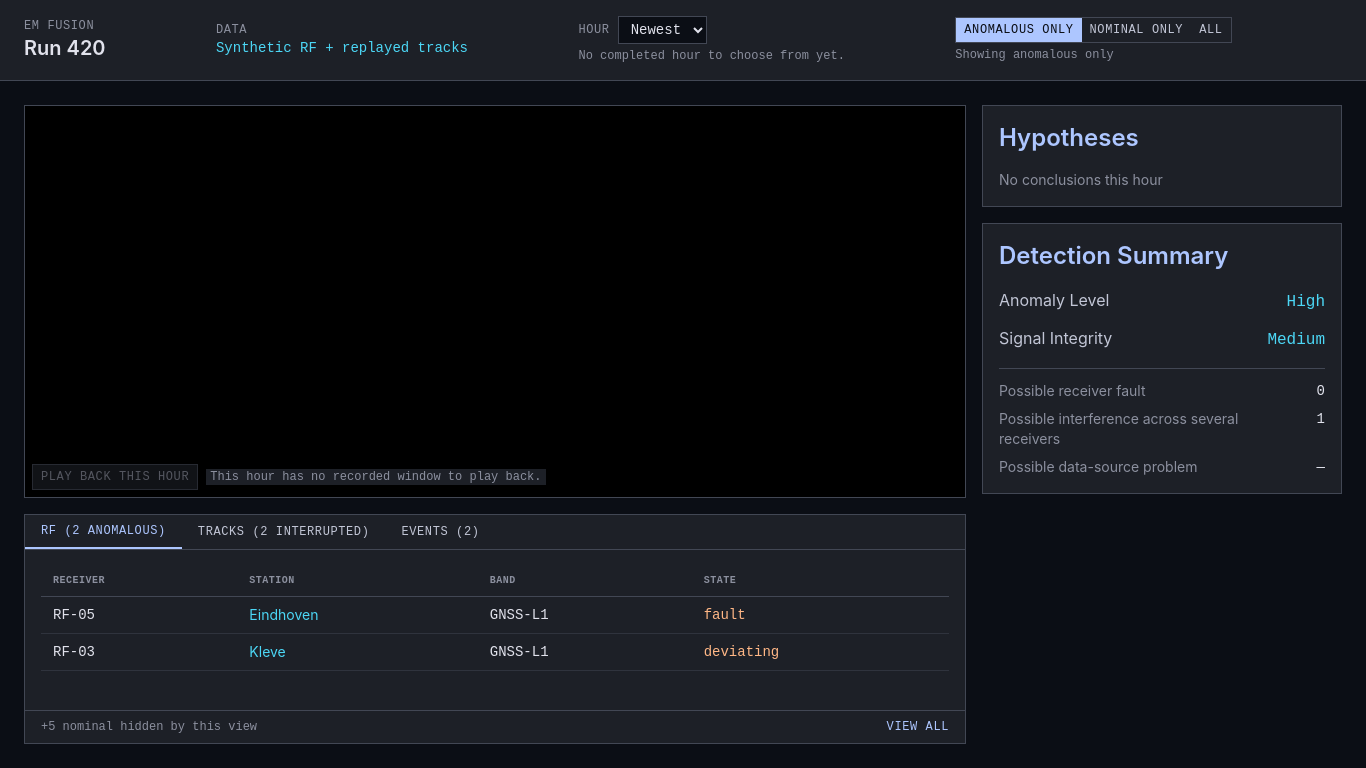
Scenario: what it opens › opens the aircraft from the Tracks tab and the conclusions from the Events tab
Click the tab "Tracks (2 interrupted)": (284, 532) [182,515,385,549]
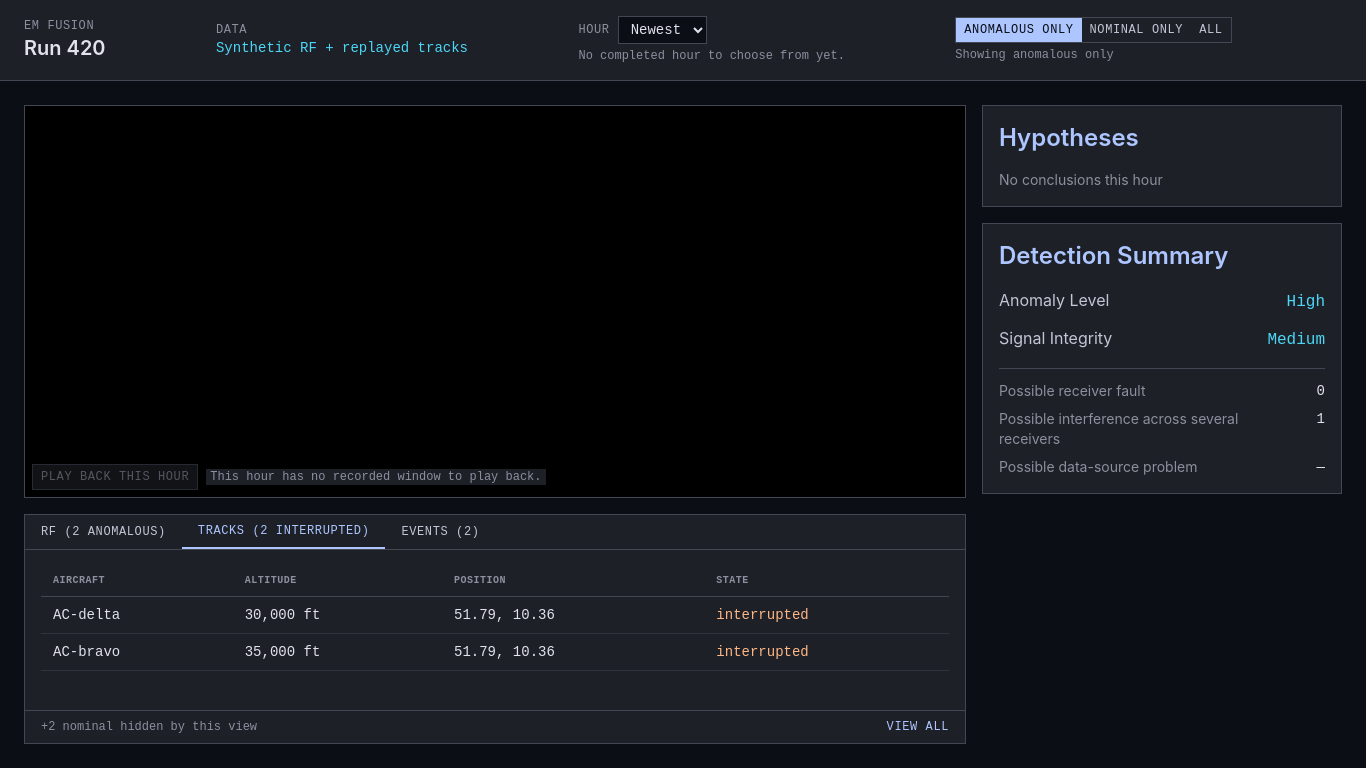
Click the button "View all": (918, 727) [887,719,949,735]
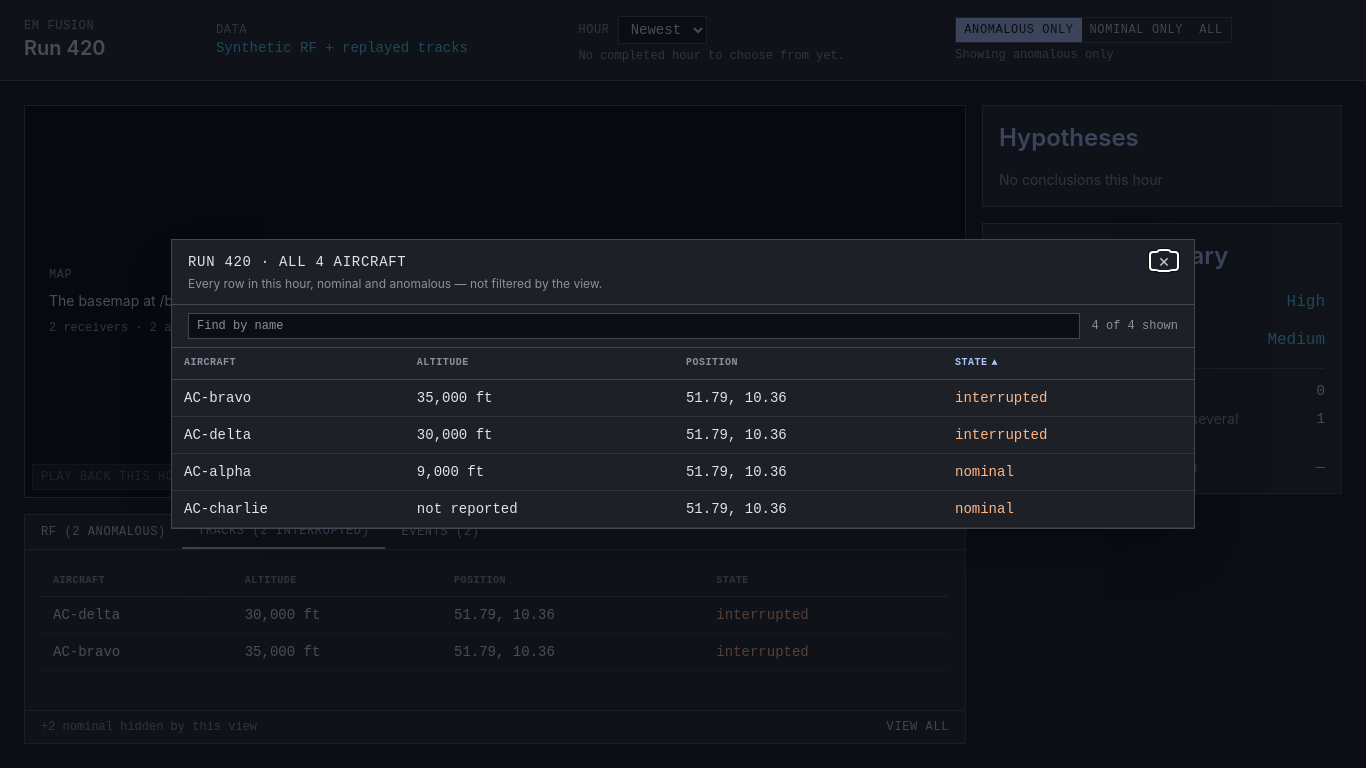
Expected: the table is shown, [172,348,1194,528]
Expected: the dialog "Run 420 · all 4 aircraft" is shown, [171,239,1195,529]
Click the button named "close": (1164, 261) [1150,252,1178,270]
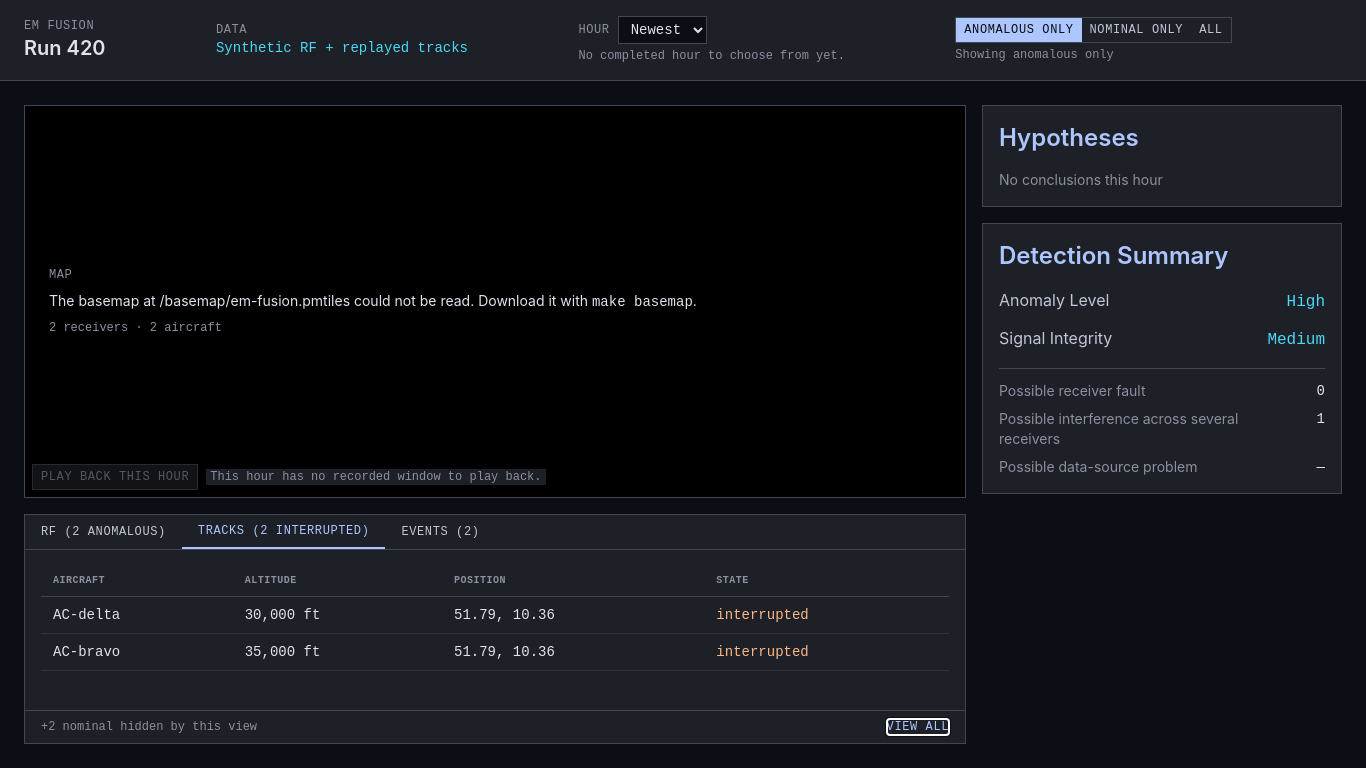
Click the tab "Events (2)": (440, 532) [386,515,496,549]
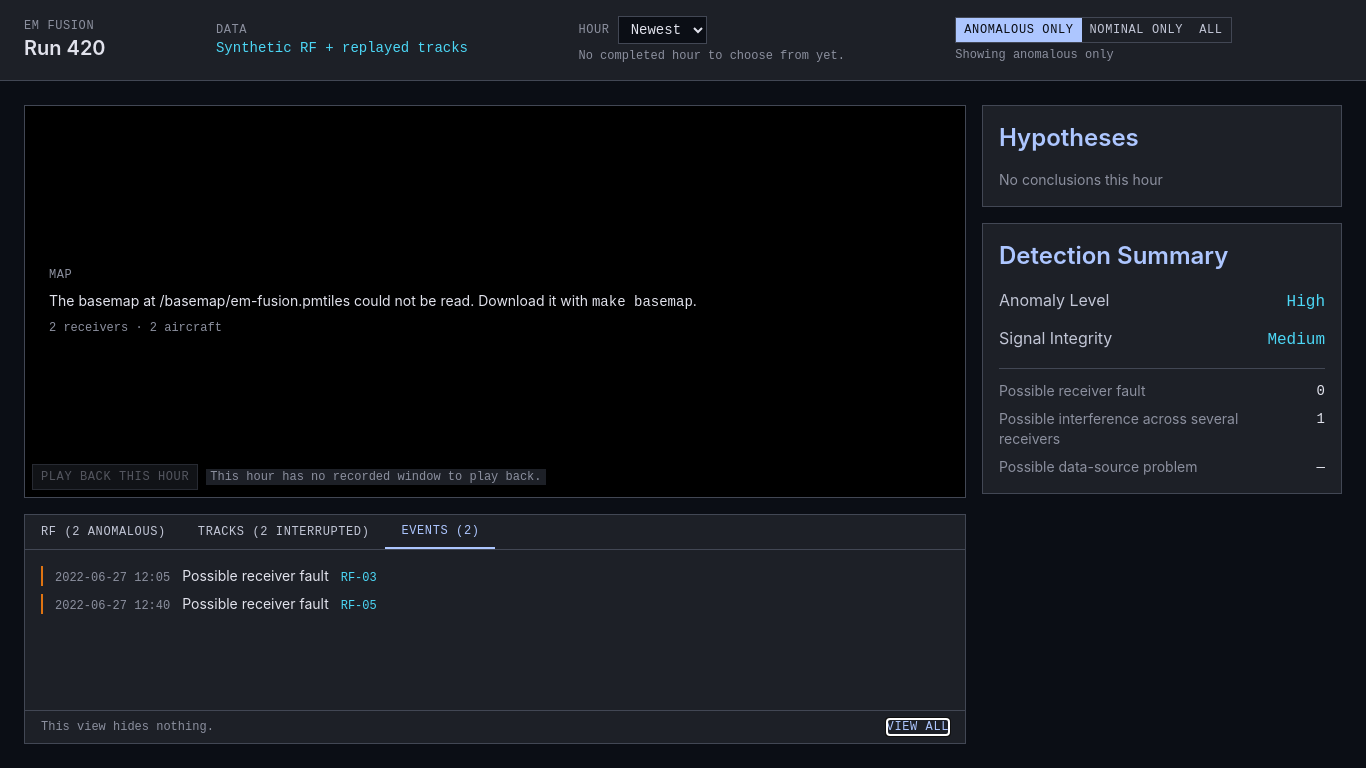
Click the button "View all": (918, 727) [887,719,949,735]
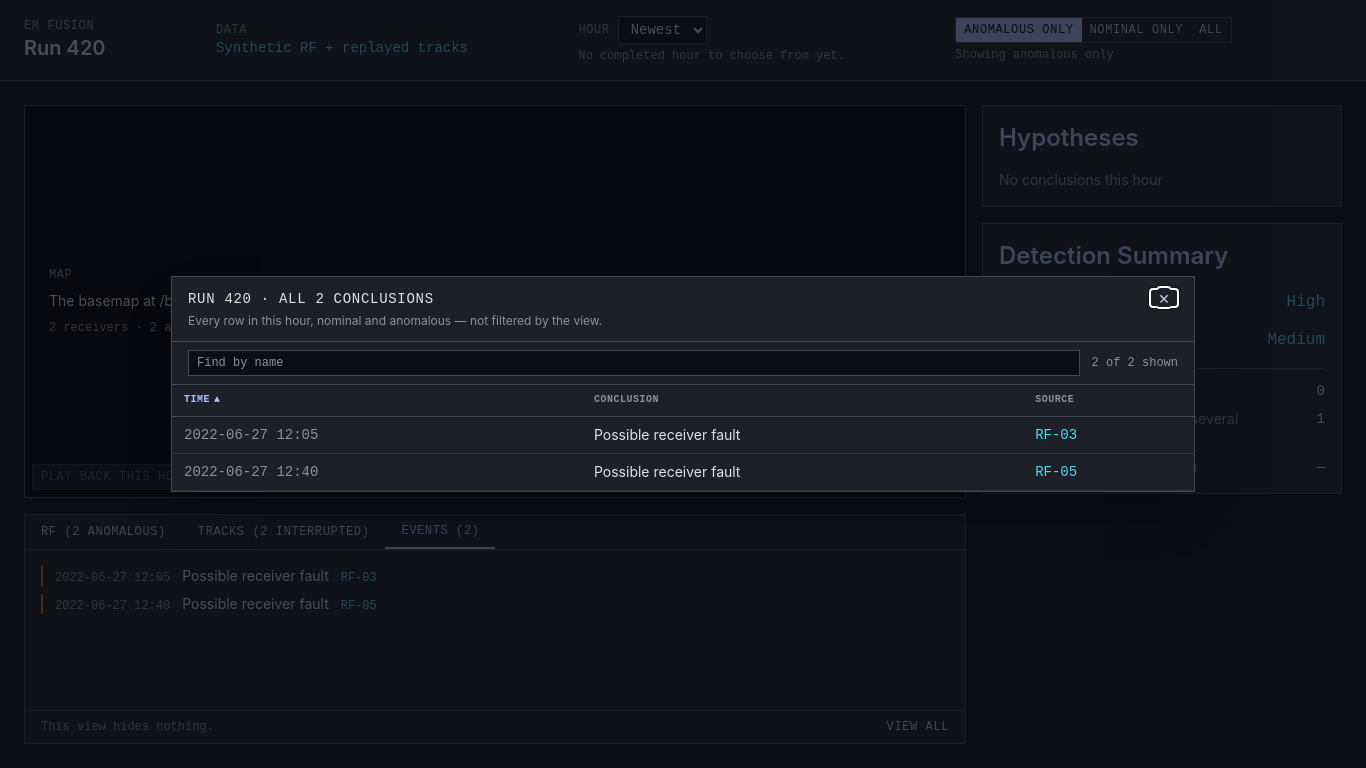
Expected: the dialog "Run 420 · all 2 conclusions" is shown, [171,276,1195,492]
